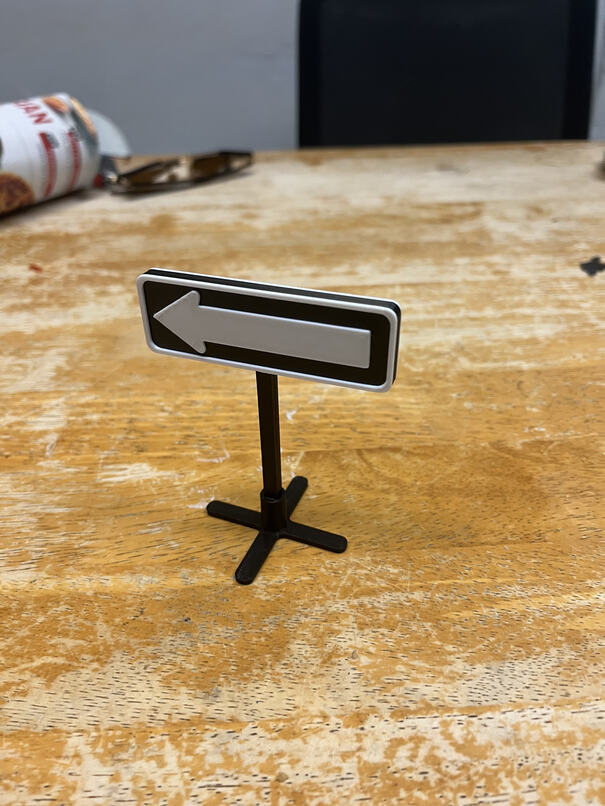sign_oneway_left: (130, 272, 399, 386)
